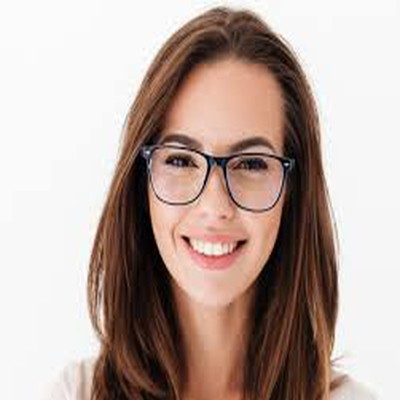eywear: (130, 110, 303, 231)
